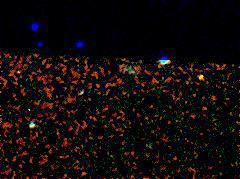star: (186, 57, 216, 87)
